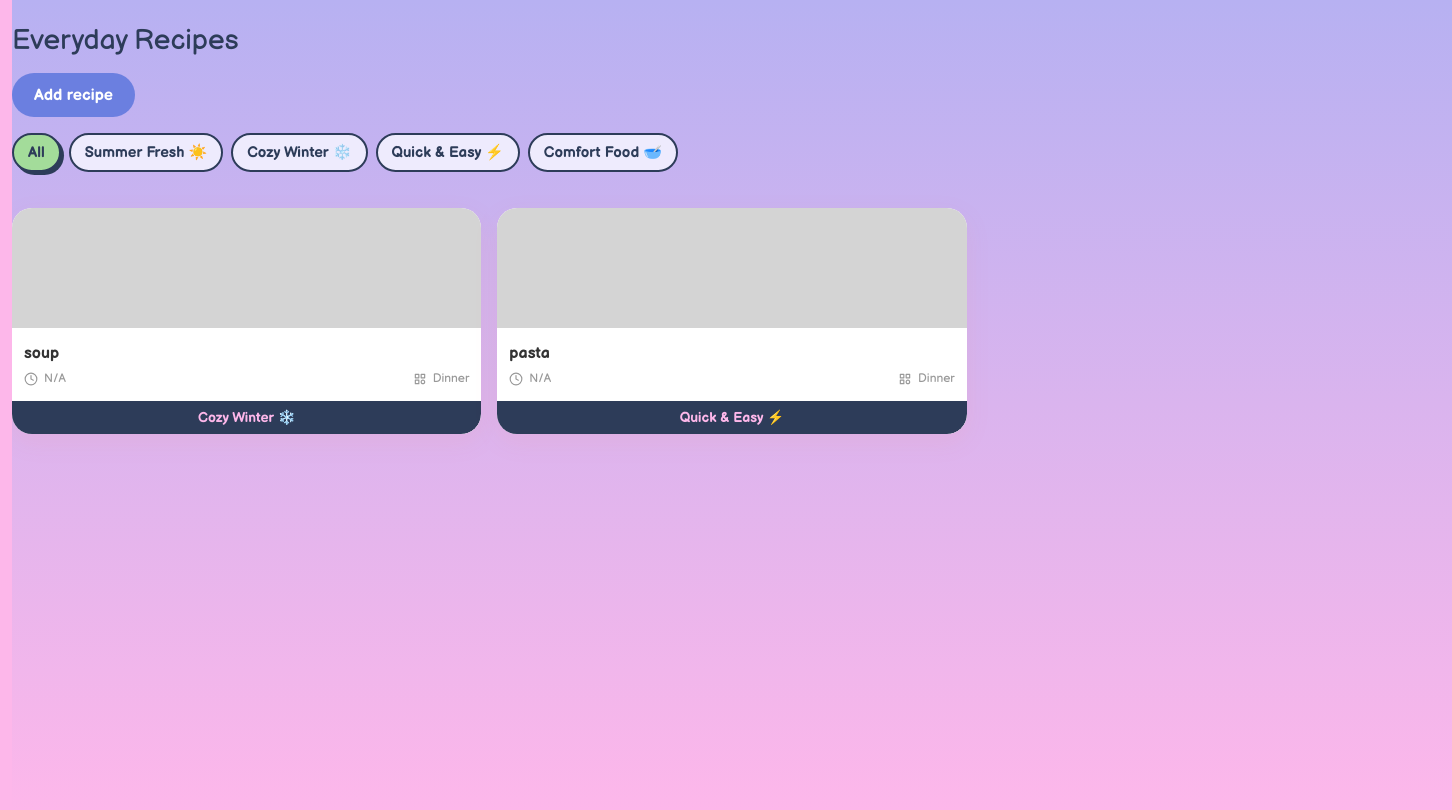
RecipesScreen label filter › shows only the recipes with the chosen label
Click the button "Quick & Easy ⚡".
click(448, 152)  # box [376,133,520,172]
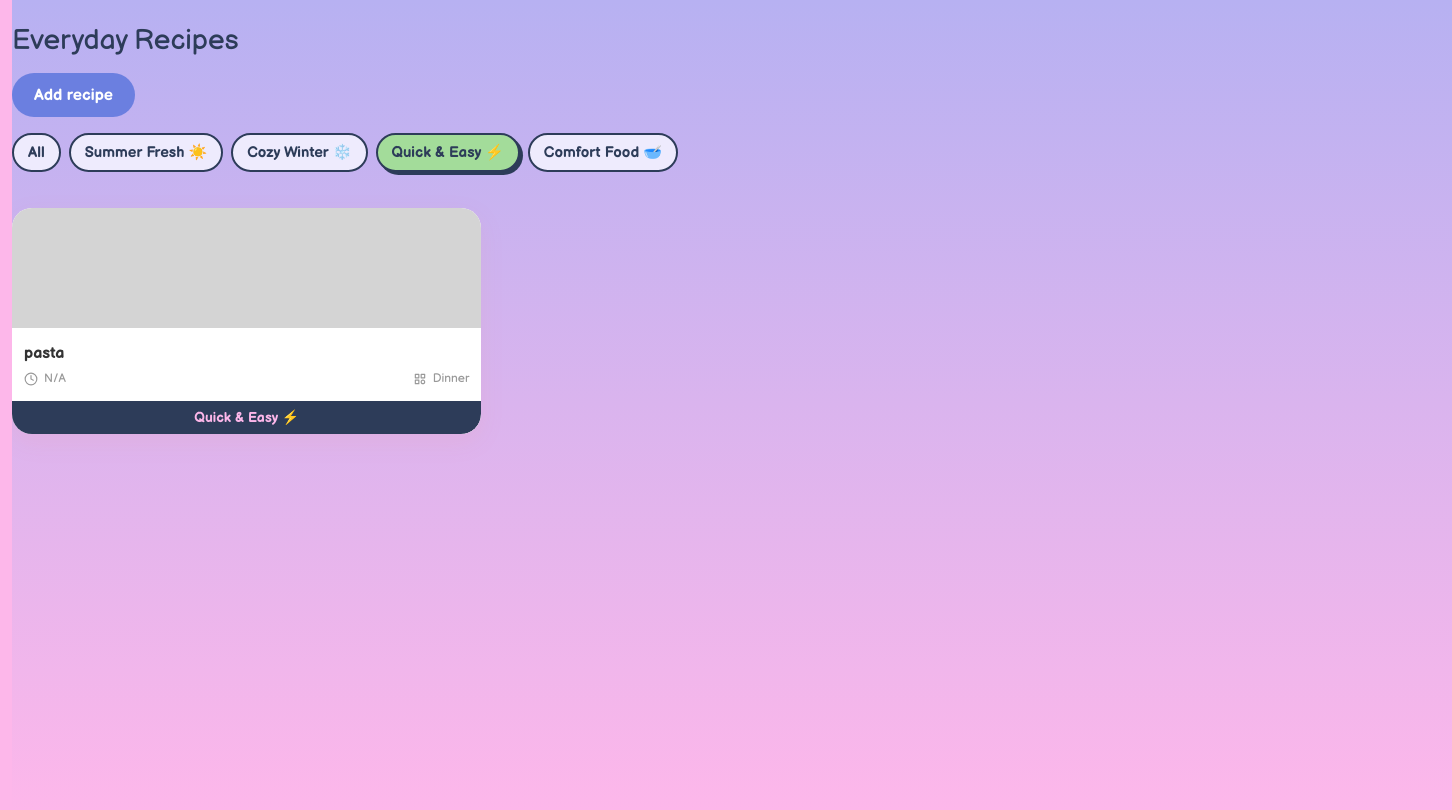
Check: the link "soup" is gone
